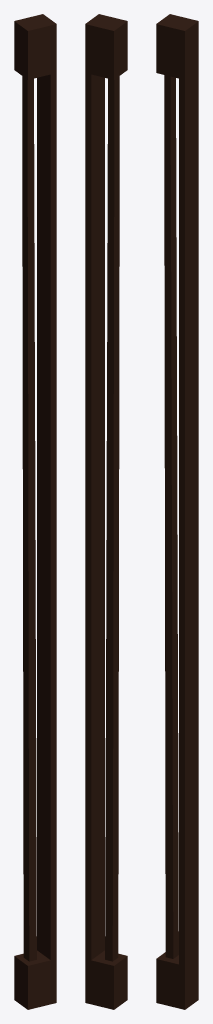
File: bow.fbx
3 renders of one model, left to right at view 1: azimuth 30°, elevation 25°; view 2: azimuth 150°, elevation 25°; view 3: azimuth 330°, elevation 25°, orthographic.
Parts seen in each view (by area): view 1: pCube2; view 2: pCube2; view 3: pCube2.
Part boxes in pixels (<box>): pCube2: <box>14,14,56,1009</box>; pCube2: <box>85,14,127,1009</box>; pCube2: <box>156,14,198,1009</box>.
Size of the model in its own units: 0.1147 by 3.72 by 0.0944.
Materials: 1 (1 with a texture image).
